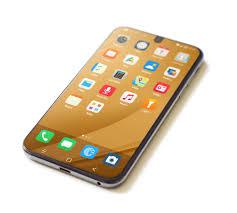Smartphone: (21, 33, 201, 184)
